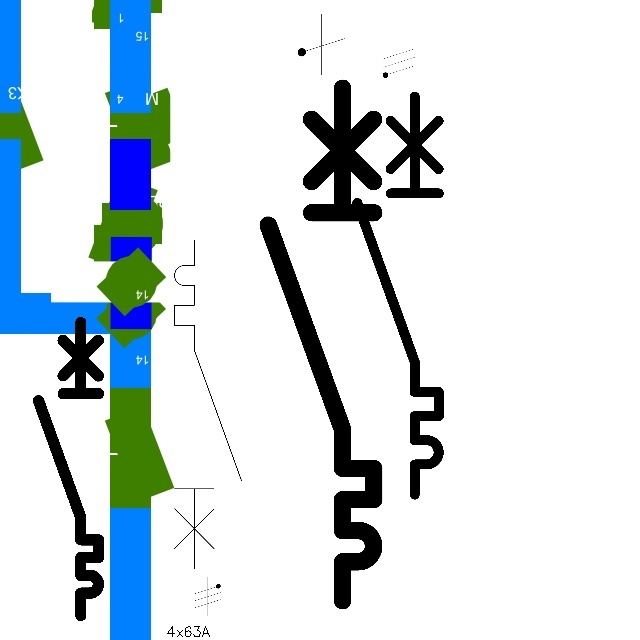interruptor_termomagnetico: (255, 75, 387, 614), (347, 86, 449, 504), (166, 232, 250, 577), (31, 315, 106, 623)
